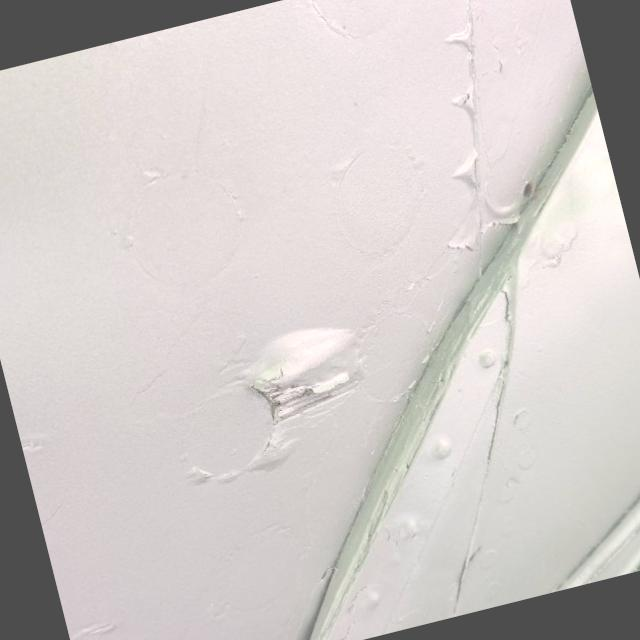paint-off: (233, 327, 379, 439)
